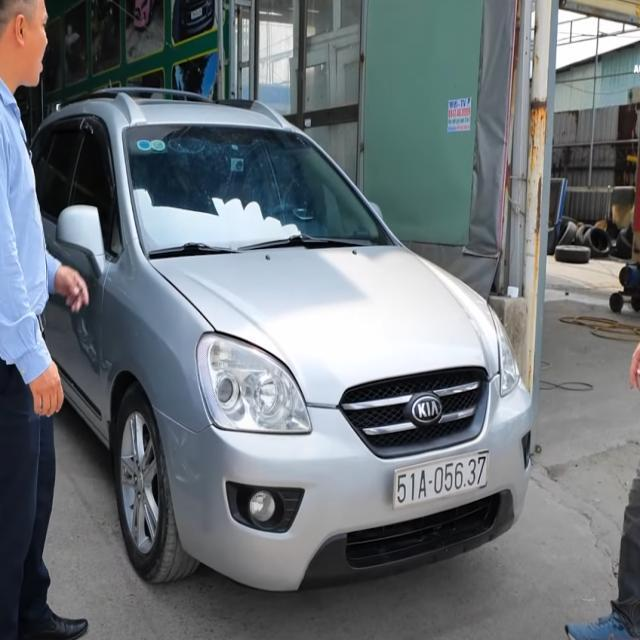car: (18, 87, 554, 610)
plate: (389, 453, 493, 509)
